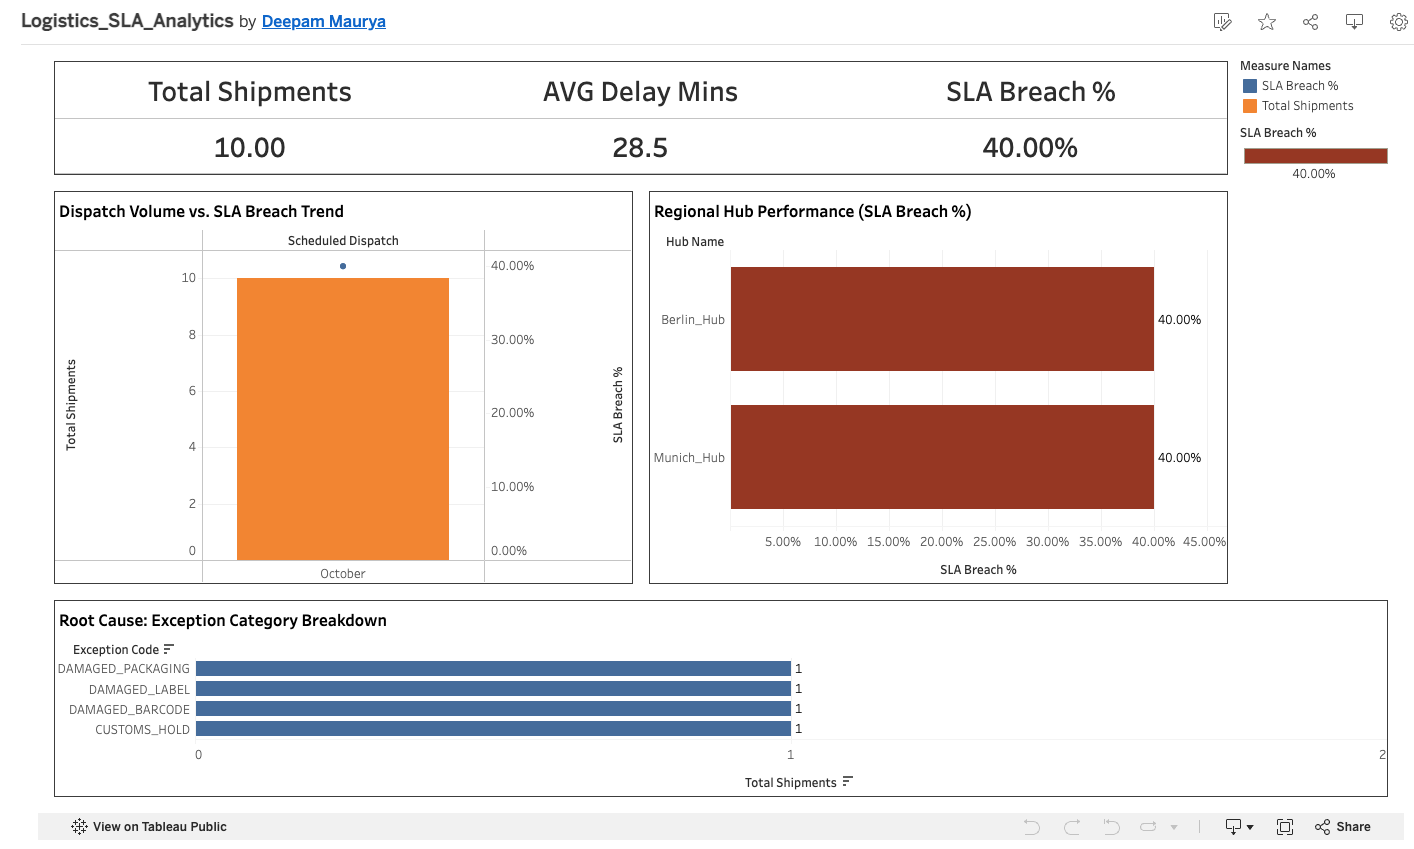

The page's visual inventory and layout, read from the dashboard file:
{"tool":"tableau","page":{"name":"Logistics_Executive_Dashboard","canvas":[1366,768],"ordinal":0},"visuals":[{"type":"worksheet","title":"KPI_Banner","mark":"Automatic","box":[8,8,1190,130]},{"type":"legend","title":"Monthly_Volume_vs_Breach","param":"[federated.1xnzmui1ksm6fm13pflnf1lea1jp].[:Measure Names]","box":[1198,8,160,66]},{"type":"legend","title":"Hub_Performance","param":"[federated.1xnzmui1ksm6fm13pflnf1lea1jp].[usr:Calculation_4570321082302466:qk]","box":[1198,74,160,65]},{"type":"worksheet","title":"Monthly_Volume_vs_Breach","mark":"Bar","rows":["Calculation_4570321078087680","Calculation_4570321082302466"],"cols":["scheduled_dispatch"],"box":[8,138,595,409]},{"type":"worksheet","title":"Hub_Performance","mark":"Automatic","rows":["hub_name"],"cols":["Calculation_4570321082302466"],"box":[603,138,595,409]},{"type":"worksheet","title":"Exception Breakdown","mark":"Automatic","rows":["exception_code"],"cols":["Calculation_4570321078087680"],"box":[8,547,1350,213]}]}

Visuals, with their boxes in screenshot pixels (x1, y1, x2, y2):
"KPI_Banner" worksheet: {"x1": 52, "y1": 52, "x2": 1224, "y2": 180}
"Monthly_Volume_vs_Breach" legend: {"x1": 1224, "y1": 52, "x2": 1381, "y2": 117}
"Hub_Performance" legend: {"x1": 1224, "y1": 117, "x2": 1381, "y2": 181}
"Monthly_Volume_vs_Breach" worksheet (Bar marks): {"x1": 52, "y1": 180, "x2": 638, "y2": 583}
"Hub_Performance" worksheet: {"x1": 638, "y1": 180, "x2": 1224, "y2": 583}
"Exception Breakdown" worksheet: {"x1": 52, "y1": 583, "x2": 1381, "y2": 793}
